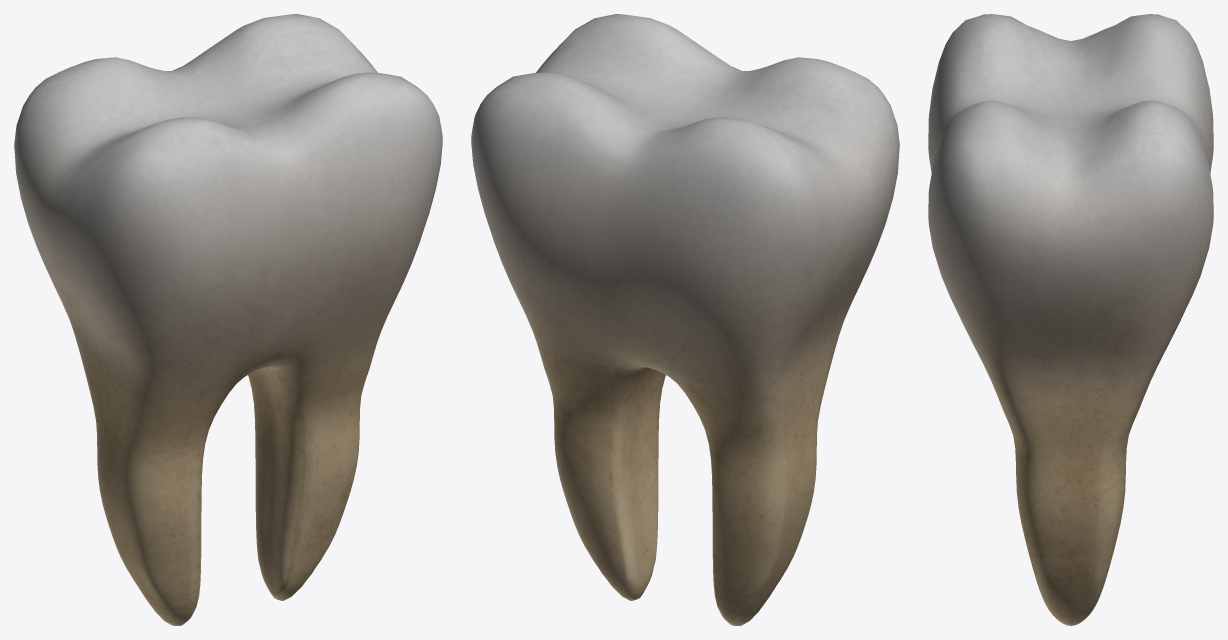
File: tooth.glb
The picture shows the model from 3 angles, left to right: view 1: azimuth 30°, elevation 25°; view 2: azimuth 150°, elevation 25°; view 3: azimuth 270°, elevation 25°; orthographic projection.
Visible parts, largest first — view 1: Tooth_A; view 2: Tooth_A; view 3: Tooth_A.
Boxes of the visible parts, x1,y1,x2,y2 form: Tooth_A: (14,14,442,625); Tooth_A: (471,14,899,625); Tooth_A: (928,14,1213,625).
Size of the model in its own units: 1.46 by 2.13 by 1.03.
Materials: 1 (1 with a texture image).
